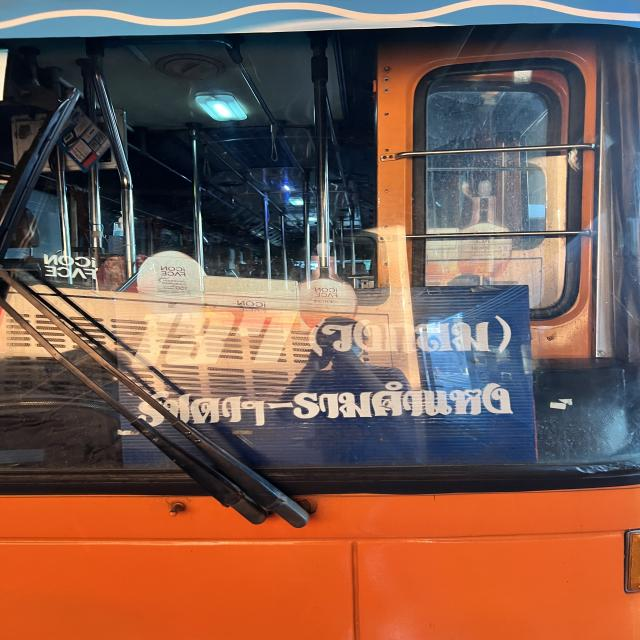BMTA-bus: (0, 0, 640, 640)
Destination-Sign-Normal: (113, 292, 539, 461)
